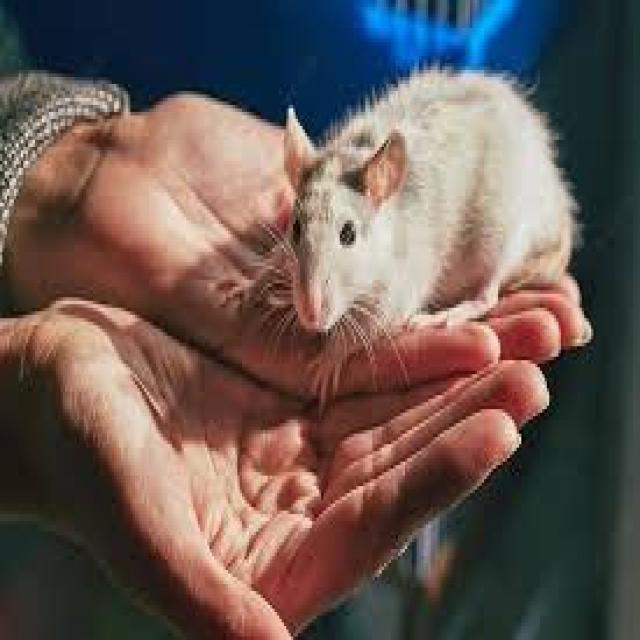Rat: (264, 41, 606, 408)
